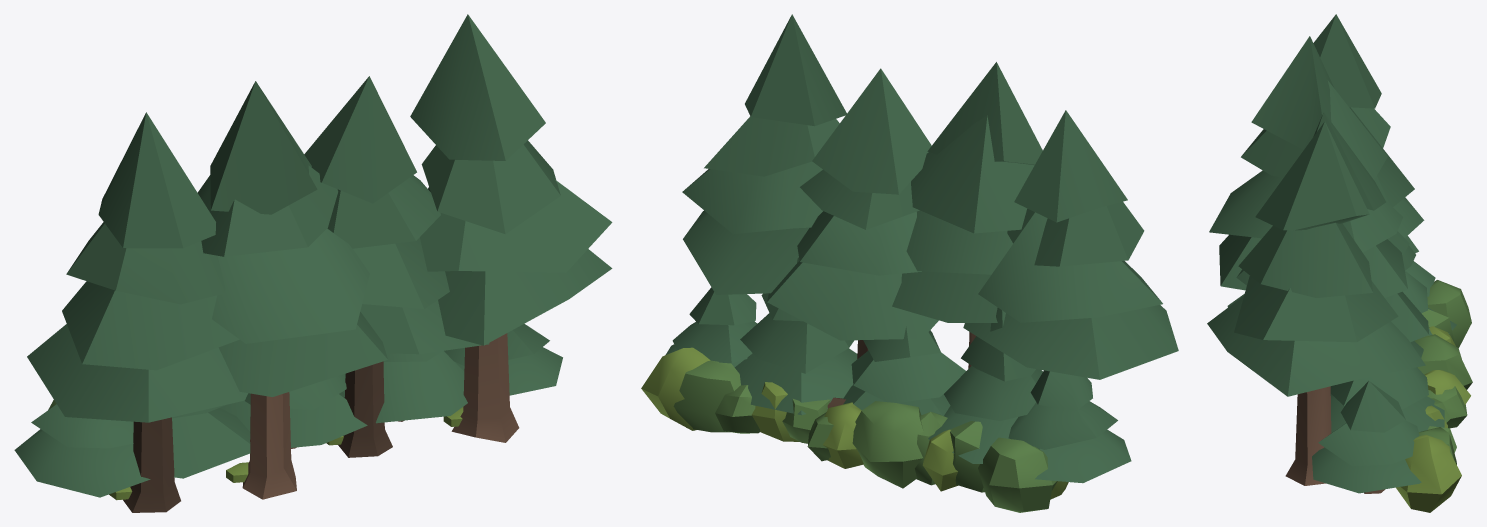
File: forest-edge.glb
3 renders of one model, left to right at view 1: azimuth 30°, elevation 25°; view 2: azimuth 150°, elevation 25°; view 3: azimuth 270°, elevation 25°, orthographic. The views are drawn at different scales.
Visible parts, largest first — view 1: forest-edge; view 2: forest-edge; view 3: forest-edge.
Part boxes in pixels (x1,y1,x2,y2): forest-edge: [14, 14, 612, 512]; forest-edge: [641, 14, 1178, 512]; forest-edge: [1207, 14, 1472, 512].
Bounding box in the file's own units: 5.4 × 4.16 × 2.73.
